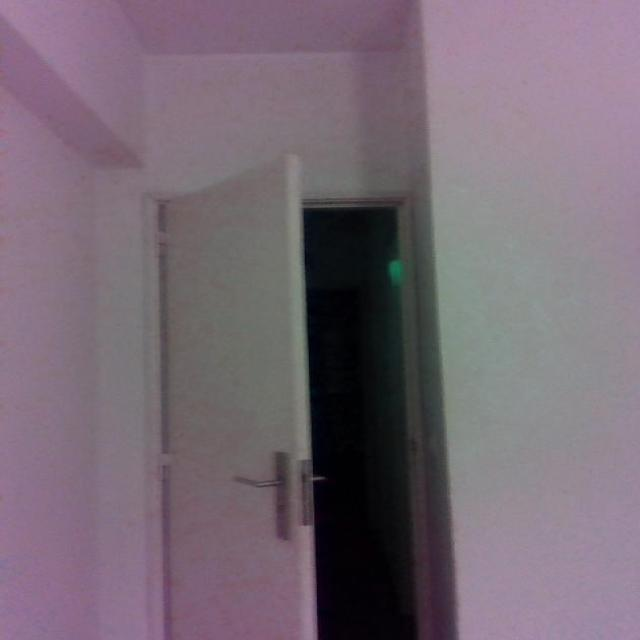door: (138, 144, 338, 636)
